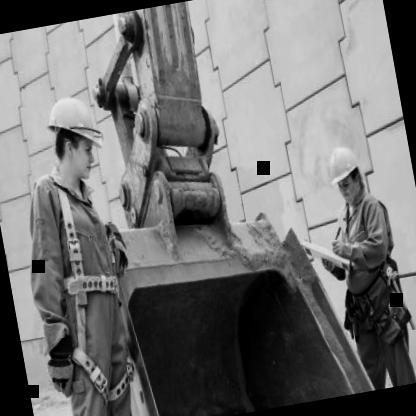helmet: (40, 88, 108, 184), (324, 140, 368, 206)
